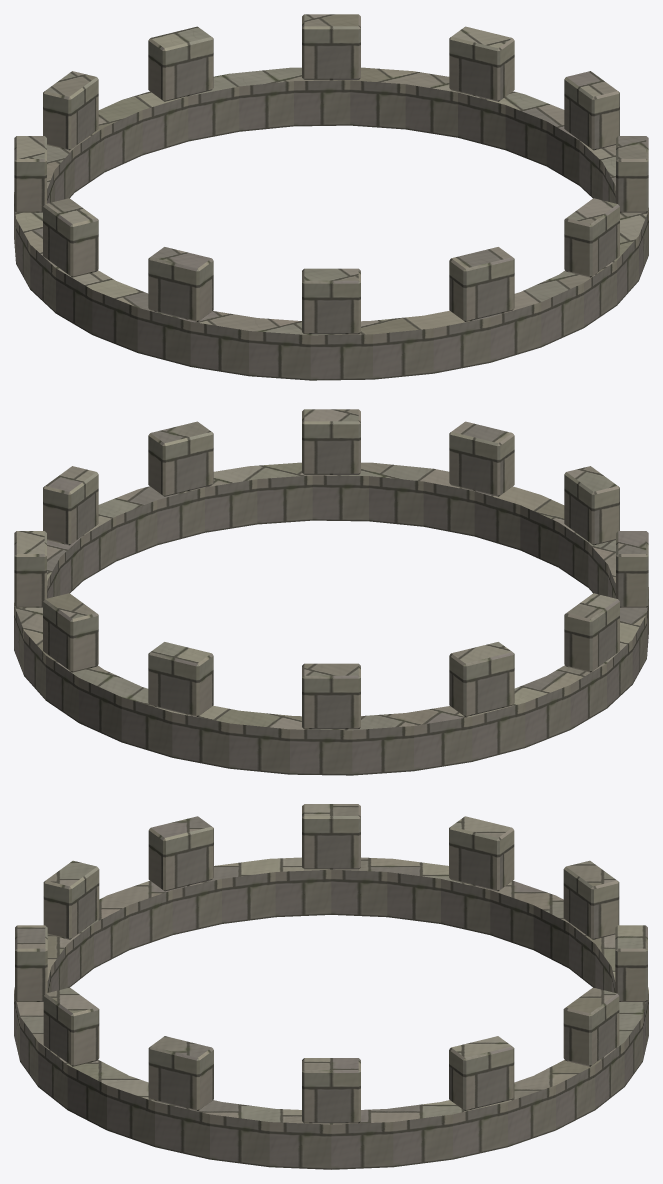
Rendered from Furn_Battlement_Top_Round.fbx.
3 views of the same model, one above another, from view 1: azimuth 30°, elevation 25°; view 2: azimuth 150°, elevation 25°; view 3: azimuth 270°, elevation 25° (orthographic).
Visible parts, largest first — view 1: Furn_Battlement_Top_Round_Mesh; view 2: Furn_Battlement_Top_Round_Mesh; view 3: Furn_Battlement_Top_Round_Mesh.
Part boxes in pixels (x1,y1,x2,y2): Furn_Battlement_Top_Round_Mesh: (14,14,648,380); Furn_Battlement_Top_Round_Mesh: (14,409,648,775); Furn_Battlement_Top_Round_Mesh: (14,804,648,1169).
Bounding box in the file's own units: 7 × 1.2 × 7.
